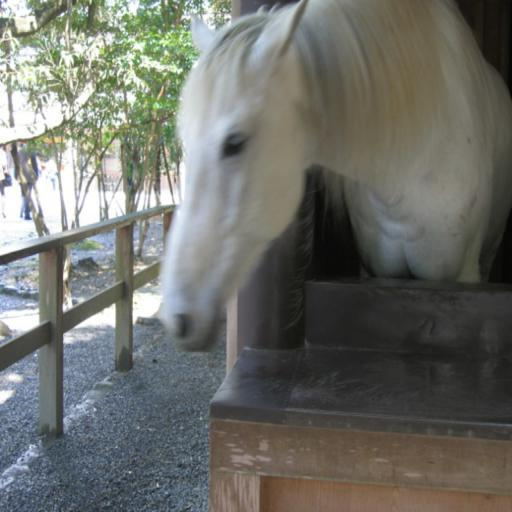horse: (158, 0, 512, 355)
